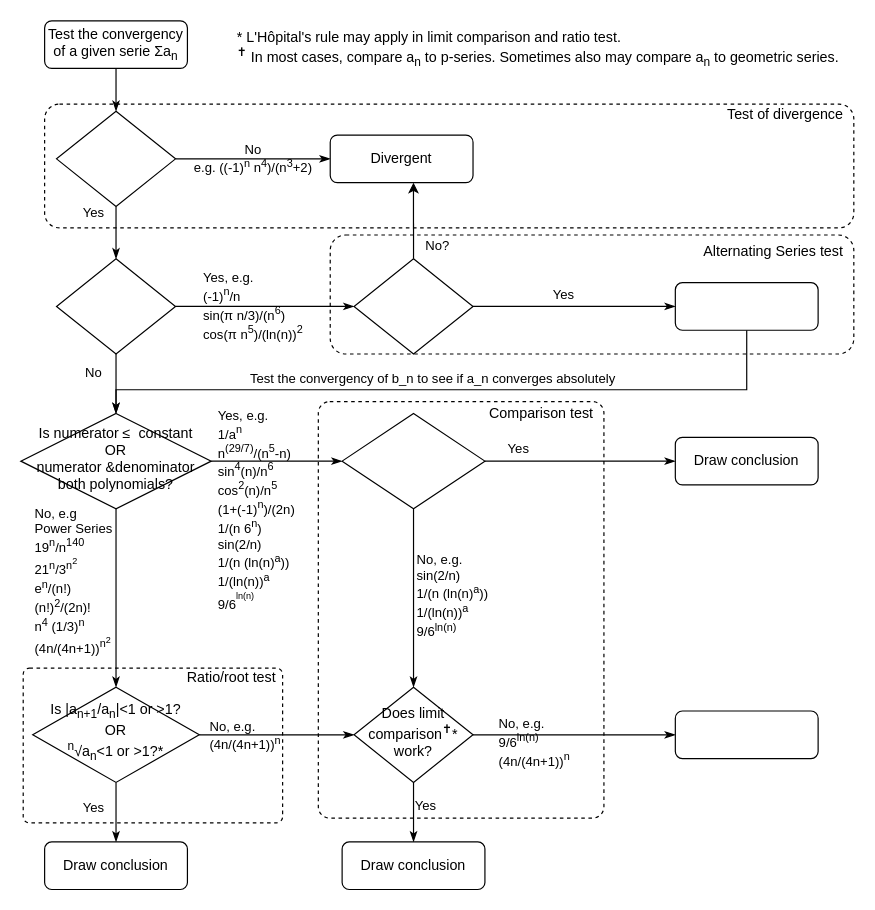
Some shapes in this 875 by 910 pixel diagram are drawn without their labels. The box of each missing label's shape, as (x1, y1, x2, y2) in pixels:
At least conditionally convergent: (674, 281, 818, 330)
Is a n alternating?: (55, 258, 176, 354)
Is a n ≤1/n c , 0<c<1 or a n ≤ r n , , r<1? OR a n > 1/n c , c≥1? ✝: (341, 412, 485, 509)
Is b n decreasing and convergent to 0?: (353, 258, 473, 354)
Try integral test or Taylor expansion: (674, 710, 818, 759)
When n→∞, does a_n→0?: (55, 110, 176, 206)
